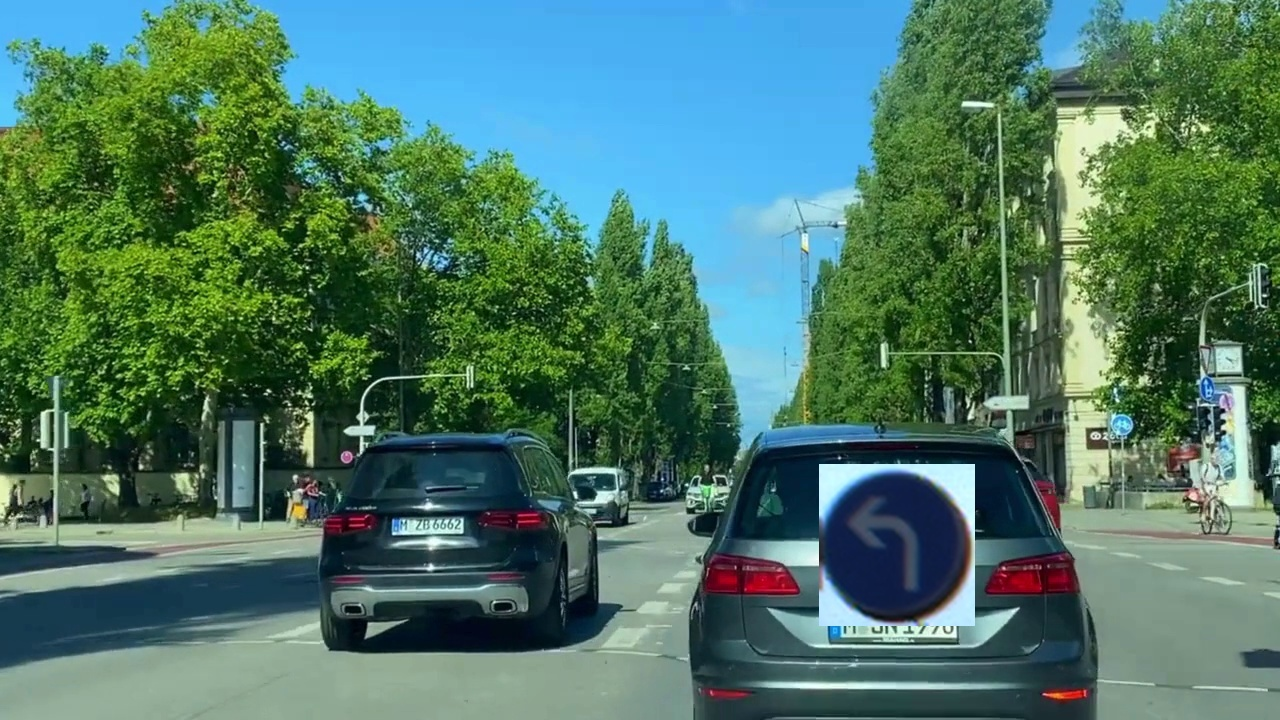Turn left: (819, 464, 975, 626)
